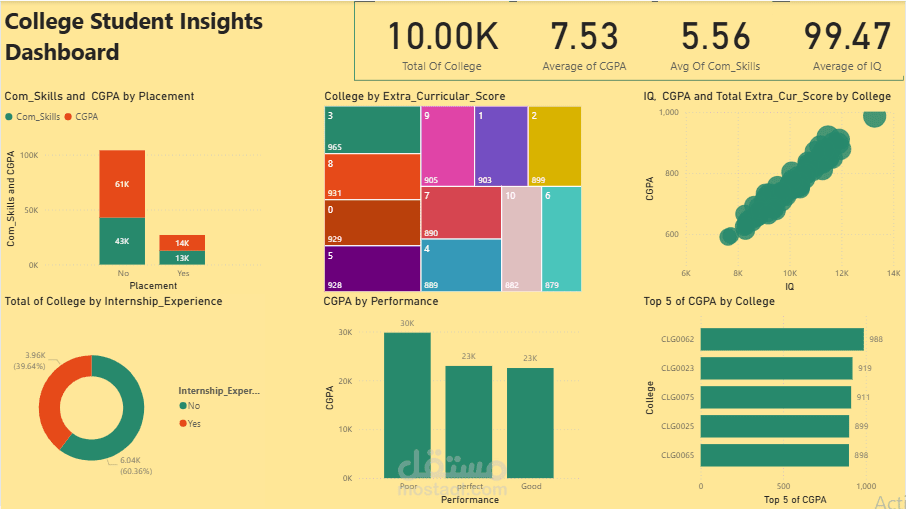

Layout of this report page (visuals, bound fields, positions):
{"tool":"powerbi","page":{"name":"Page 1","canvas":[1280,720],"ordinal":0},"visuals":[{"type":"shape","box":[500.7,0,779.3,112.8],"z":0},{"type":"columnChart","fields":{"Category":["CollegePlacement.Placement"],"Y":["Sum(CollegePlacement.Communication_Skills)","Sum(CollegePlacement.CGPA)"]},"box":[0,124.8,374.3,292.2],"z":1000},{"type":"card","fields":{"Values":["CountNonNull(CollegePlacement.College_ID)"]},"box":[529.8,0,189.7,106],"z":2000},{"type":"card","fields":{"Values":["Avg(CollegePlacement.IQ)"]},"box":[1117.7,0,162.3,106],"z":3000},{"type":"card","fields":{"Values":["Avg(CollegePlacement.CGPA)"]},"box":[731.4,0,191.4,106],"z":4000},{"type":"card","fields":{"Values":["Avg(CollegePlacement.Communication_Skills)"]},"box":[931.4,0,162.3,106],"z":5000},{"type":"columnChart","fields":{"Category":["CollegePlacement.Performance"],"Y":["Sum(CollegePlacement.CGPA)"]},"box":[452.7,416,374.6,304],"z":6000},{"type":"donutChart","fields":{"Category":["CollegePlacement.Internship_Experience"],"Y":["CountNonNull(CollegePlacement.College_ID)"]},"box":[0,416,374.6,304],"z":7000},{"type":"scatterChart","fields":{"Category":["CollegePlacement.College_ID"],"X":["Sum(CollegePlacement.IQ)"],"Y":["Sum(CollegePlacement.CGPA)"],"Size":["Sum(CollegePlacement.Extra_Curricular_Score)"]},"box":[905.7,124.8,374.3,292.2],"z":8000},{"type":"treemap","fields":{"Group":["CollegePlacement.Extra_Curricular_Score"],"Values":["CountNonNull(CollegePlacement.College_ID)"]},"box":[452.9,124.8,374.3,292.2],"z":9000},{"type":"barChart","fields":{"Y":["Sum(CollegePlacement.CGPA)"],"Category":["CollegePlacement.College_ID"]},"box":[905.4,416,374.6,304],"z":10000},{"type":"textbox","box":[0,0,421.9,99.4],"z":11000}]}

Visuals, with their boxes in screenshot pixels (x1, y1, x2, y2), scaled from the page's 1280x720 canvas onto the 906x509 screenshot:
shape: [x1=354, y1=0, x2=905, y2=80]
columnChart - CollegePlacement.Placement x Sum(CollegePlacement.Communication_Skills): [x1=0, y1=88, x2=265, y2=295]
card - CountNonNull(CollegePlacement.College_ID): [x1=375, y1=0, x2=509, y2=75]
card - Avg(CollegePlacement.IQ): [x1=791, y1=0, x2=905, y2=75]
card - Avg(CollegePlacement.CGPA): [x1=518, y1=0, x2=653, y2=75]
card - Avg(CollegePlacement.Communication_Skills): [x1=659, y1=0, x2=774, y2=75]
columnChart - CollegePlacement.Performance x Sum(CollegePlacement.CGPA): [x1=320, y1=294, x2=586, y2=508]
donutChart - CollegePlacement.Internship_Experience x CountNonNull(CollegePlacement.College_ID): [x1=0, y1=294, x2=265, y2=508]
scatterChart - CollegePlacement.College_ID x Sum(CollegePlacement.IQ): [x1=641, y1=88, x2=905, y2=295]
treemap - CollegePlacement.Extra_Curricular_Score x CountNonNull(CollegePlacement.College_ID): [x1=321, y1=88, x2=586, y2=295]
barChart - Sum(CollegePlacement.CGPA) x CollegePlacement.College_ID: [x1=641, y1=294, x2=905, y2=508]
textbox: [x1=0, y1=0, x2=299, y2=70]
